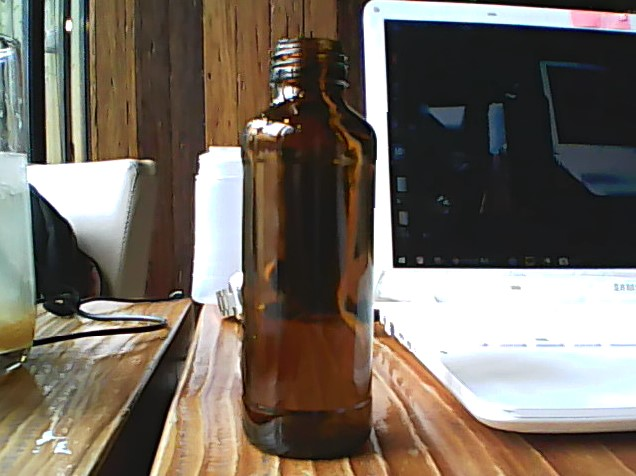Glass: (237, 34, 378, 459)
